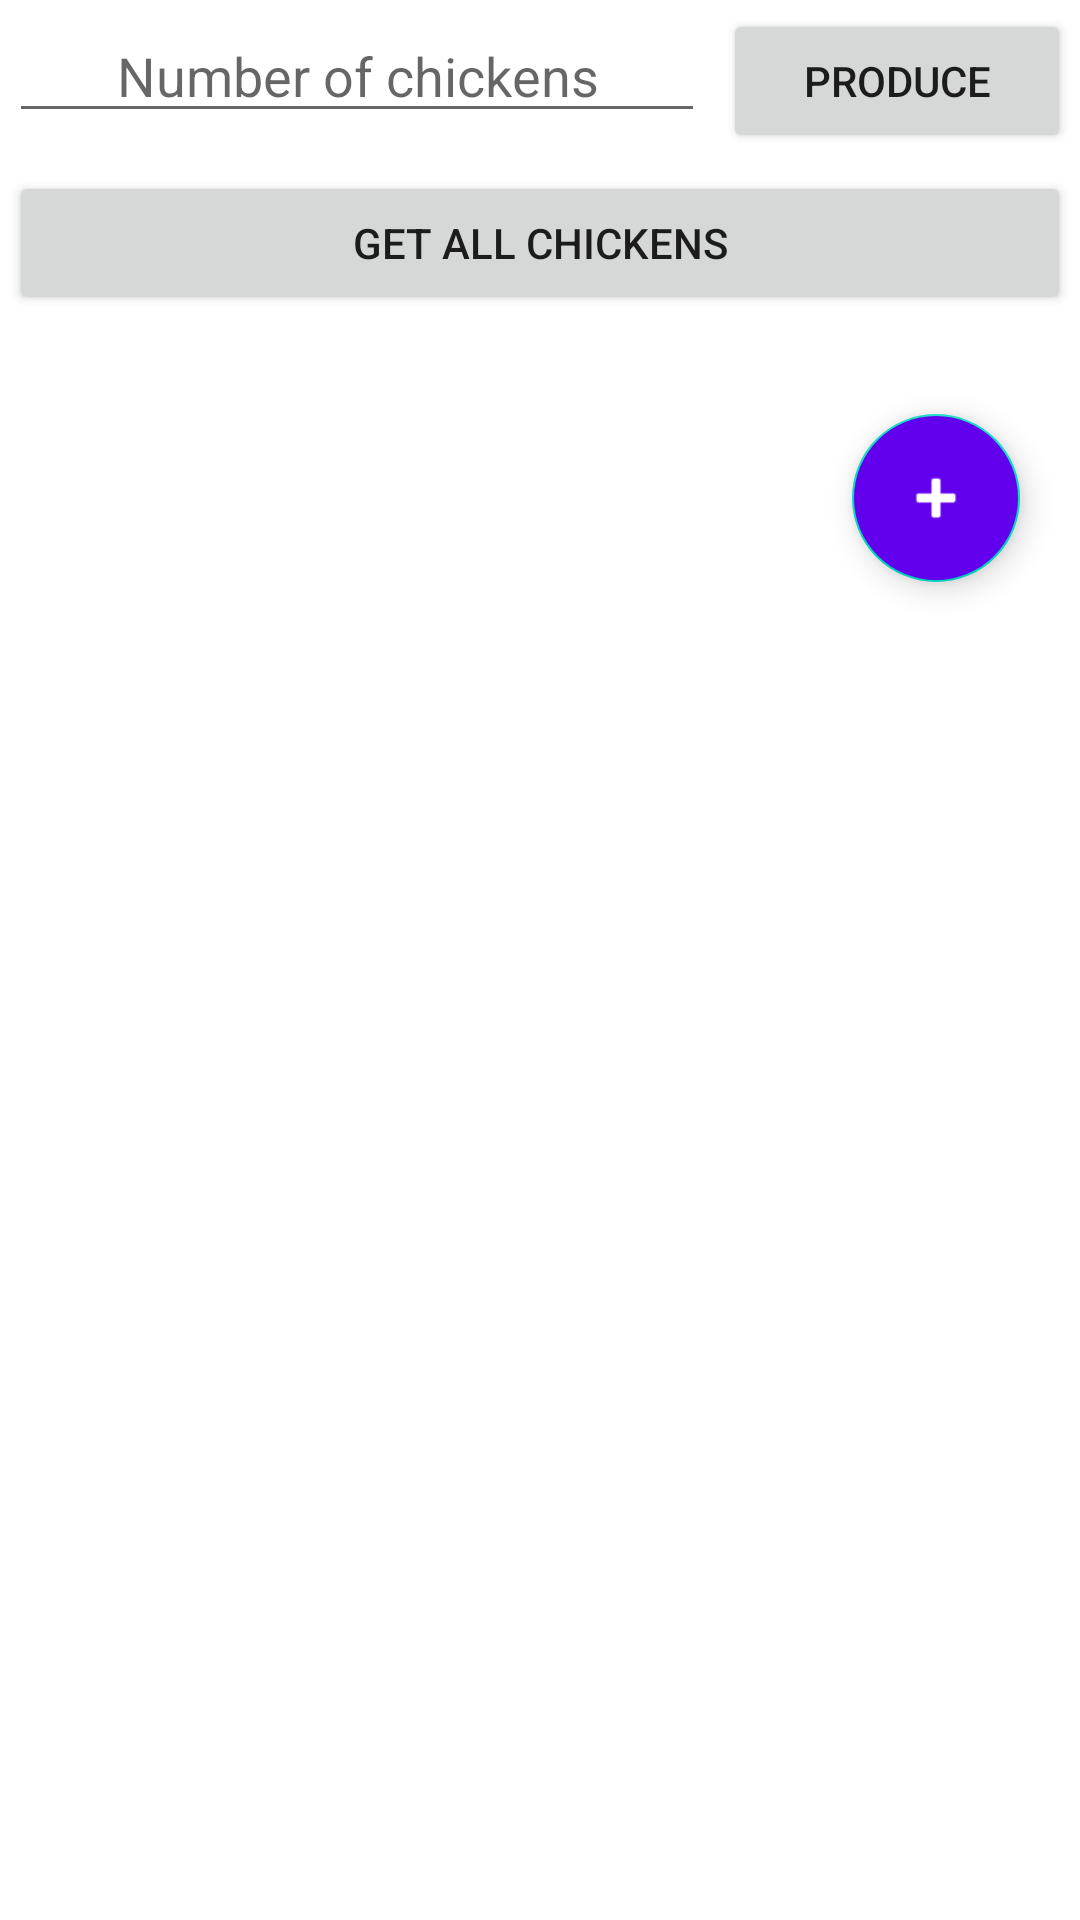

Locate icon controls on the screen. Image size 1080*1920, boxes as [left=x1, top=y1, right=x2, bottom=y2].
add: [left=852, top=414, right=1020, bottom=582]
